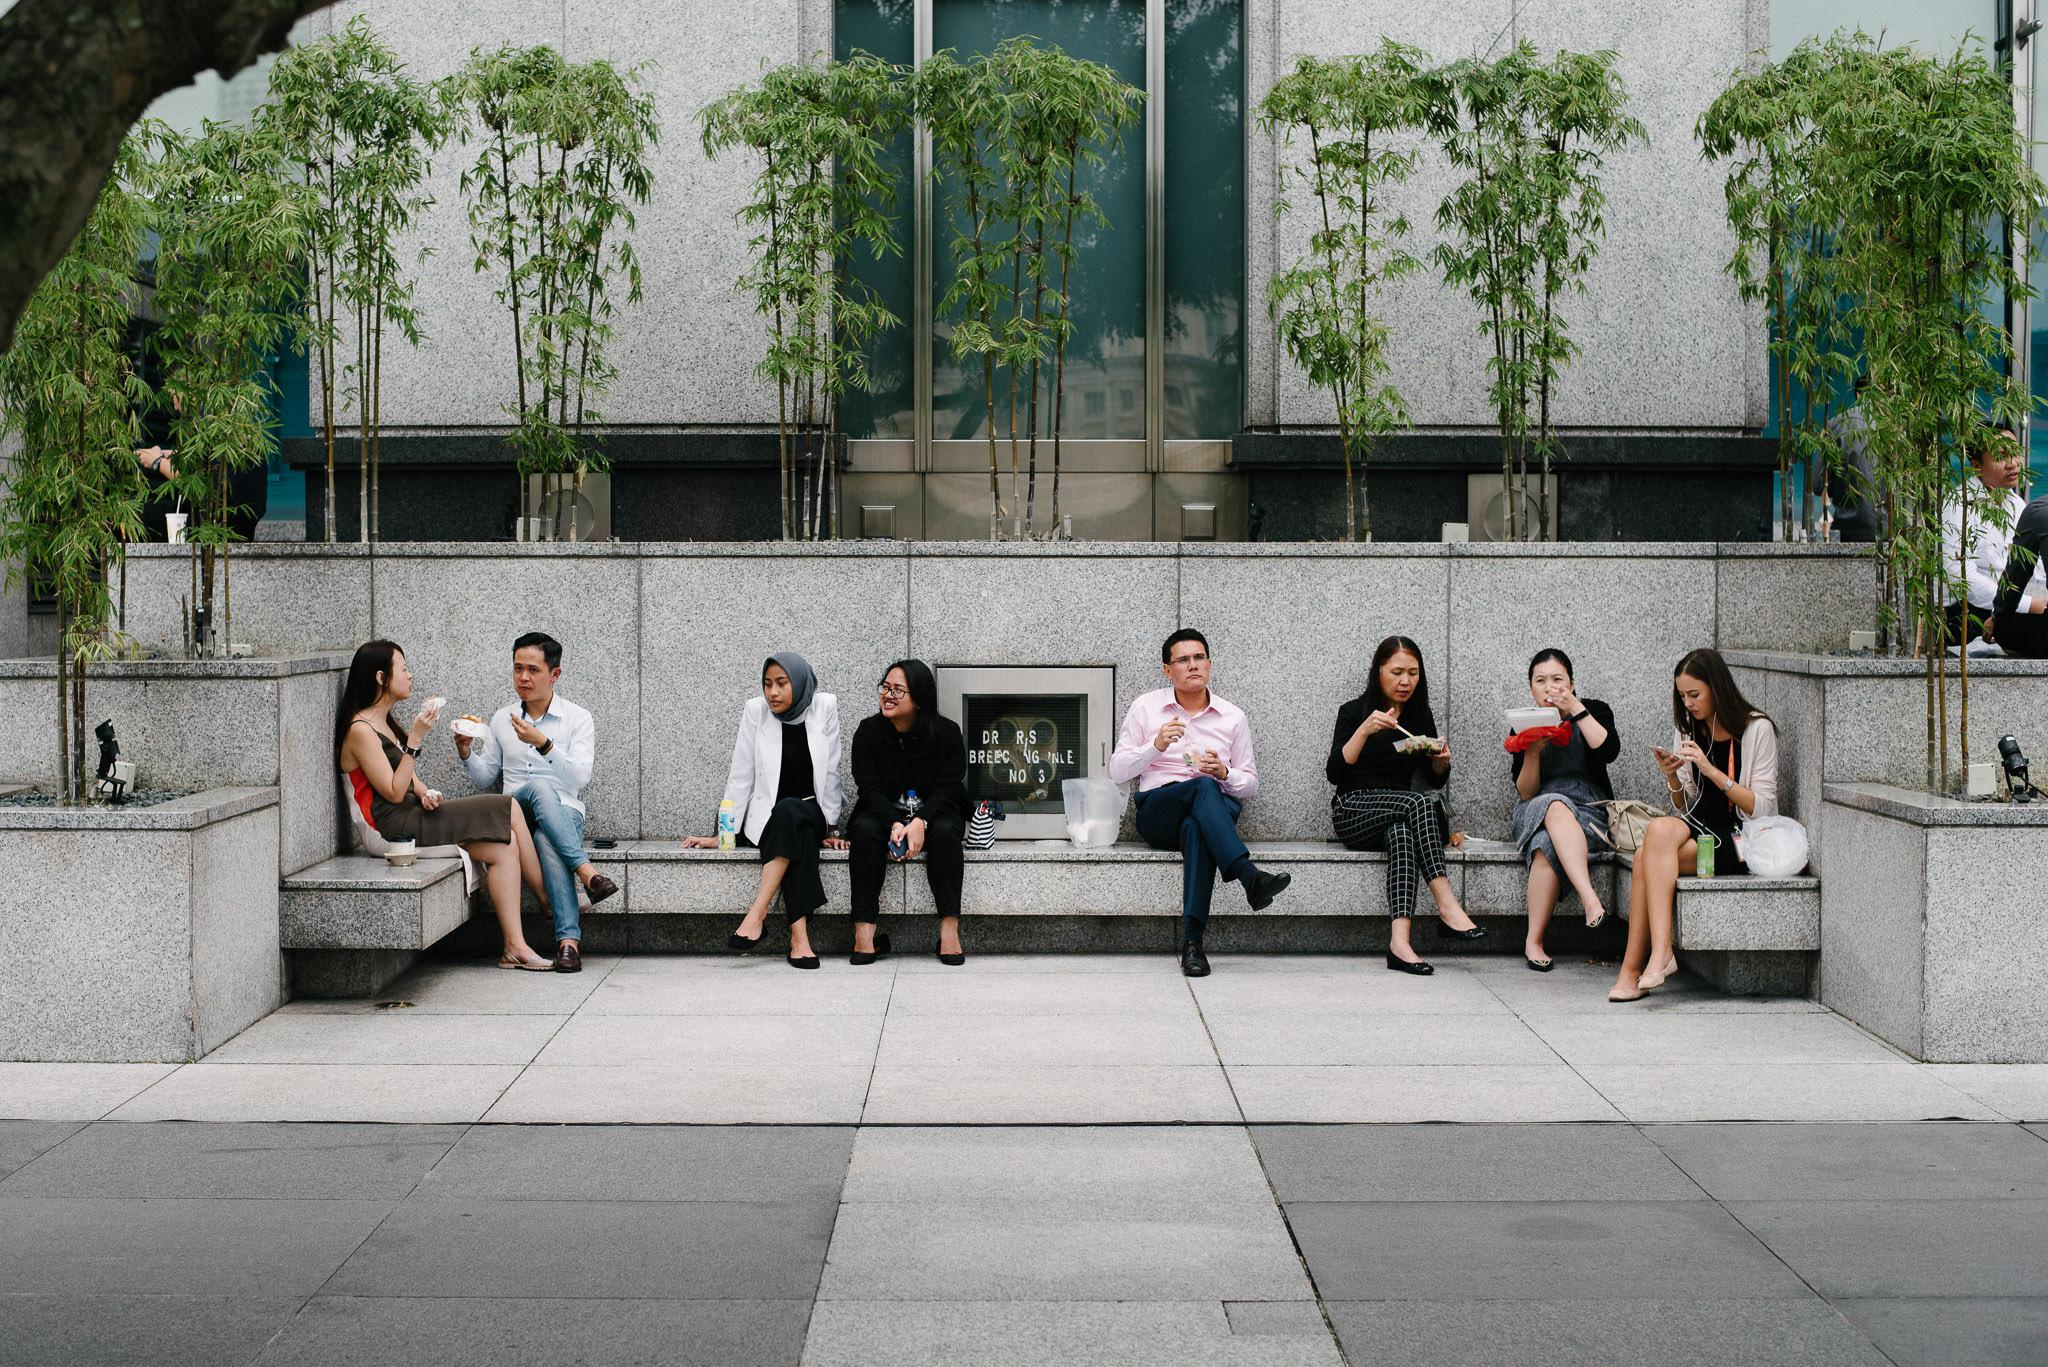without_mask: (464, 612, 619, 745), (339, 622, 440, 729), (1362, 633, 1469, 735), (733, 636, 832, 738), (1501, 638, 1616, 722), (1653, 638, 1762, 725), (858, 644, 959, 735), (1146, 617, 1232, 705)
